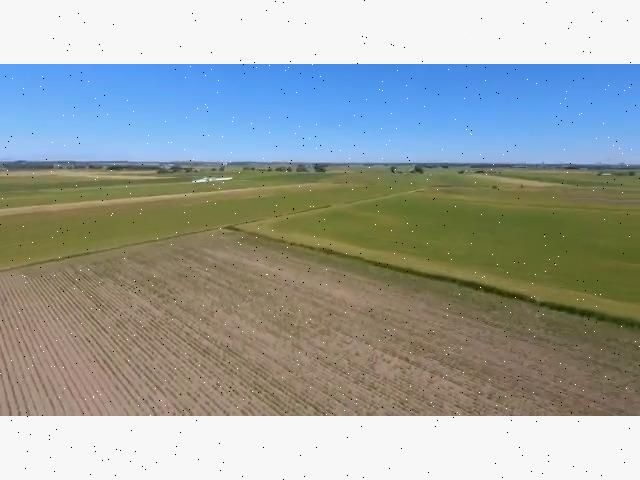Anti-Drone: (178, 163, 254, 197)
